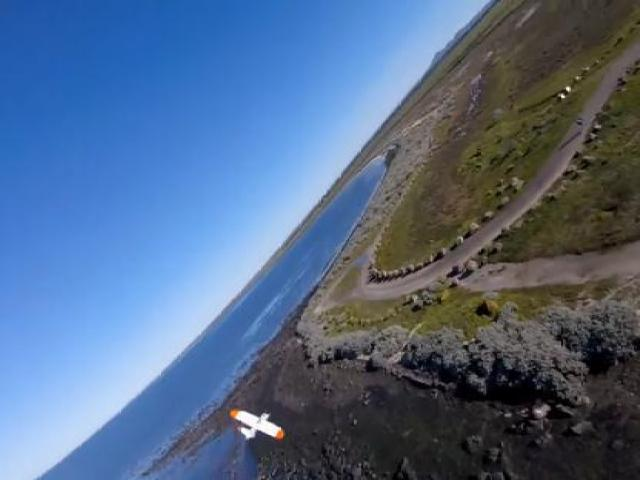uav: (230, 407, 287, 445)
